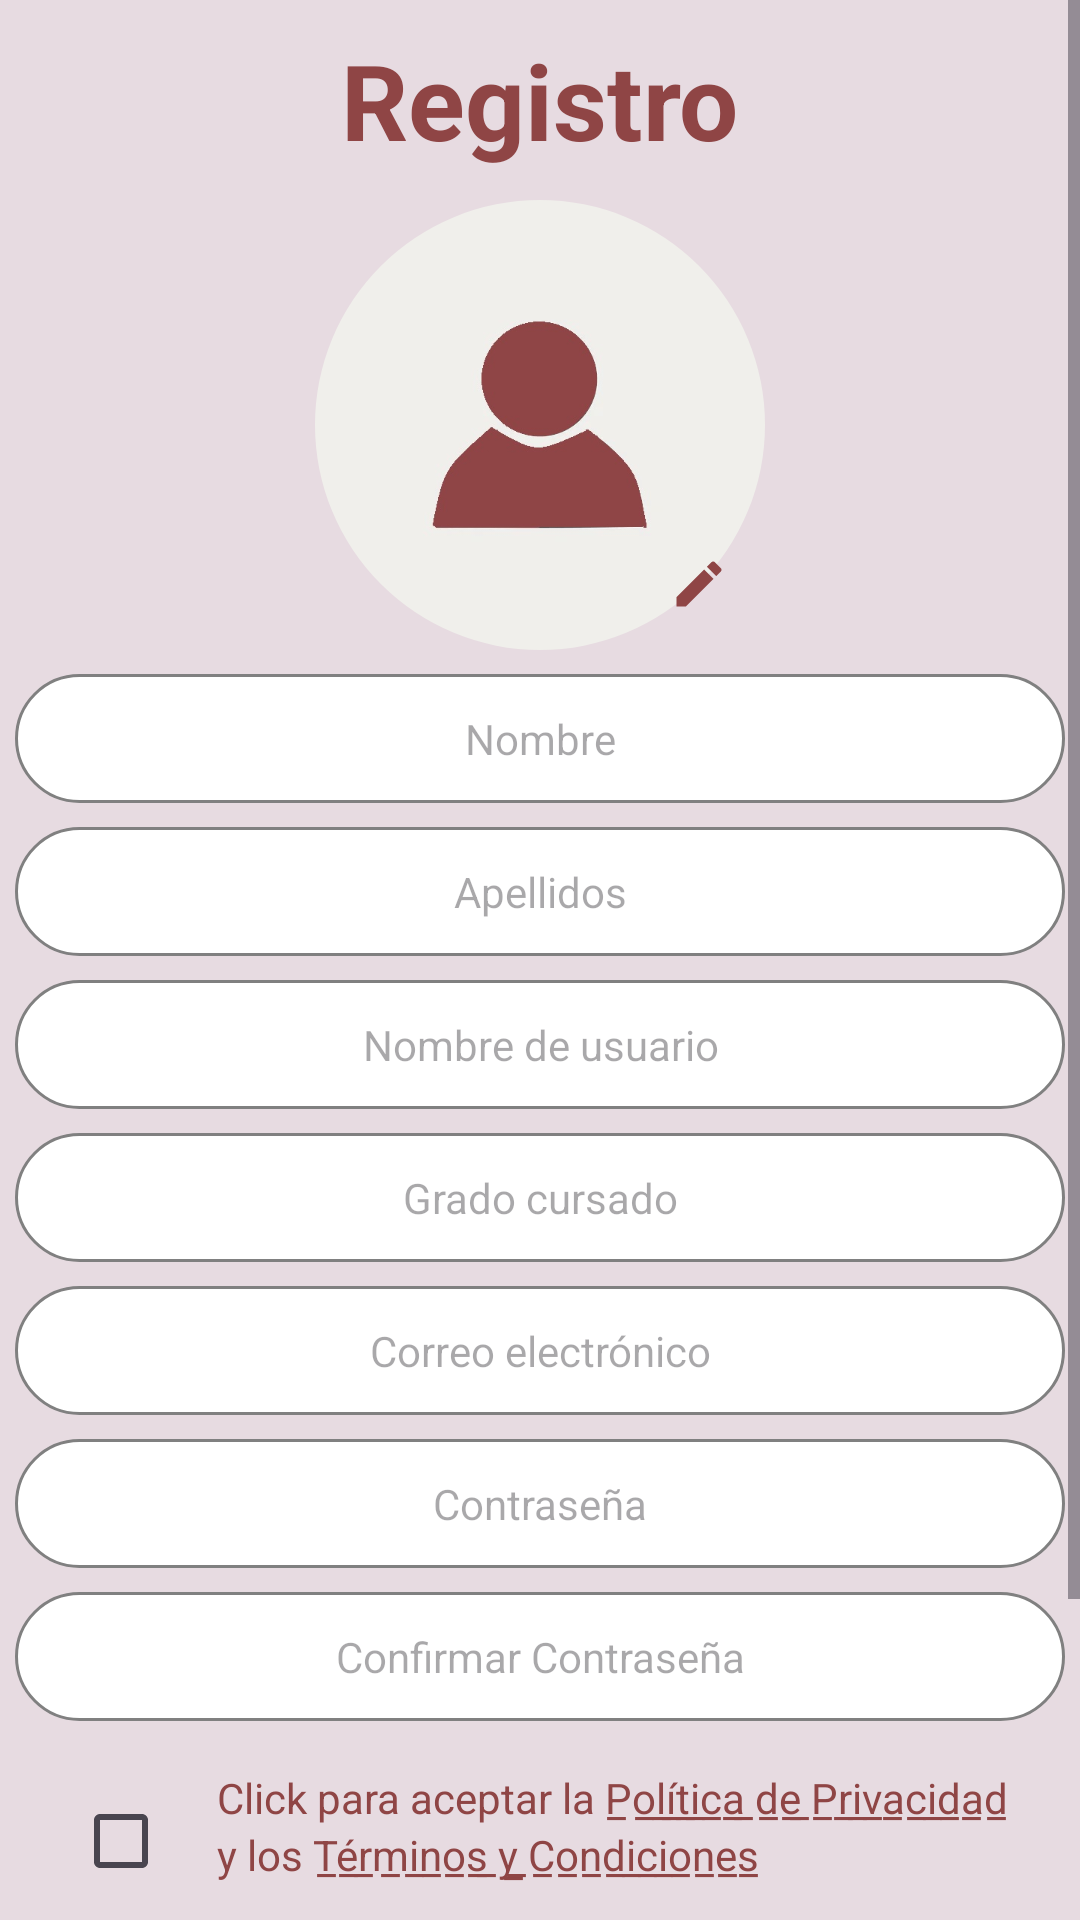

Screen size 1080px×1920px. Icon name, then its box in pixels as box(x1, y1, x2, y2):
Edit Profile Image: box(676, 561, 722, 607)
